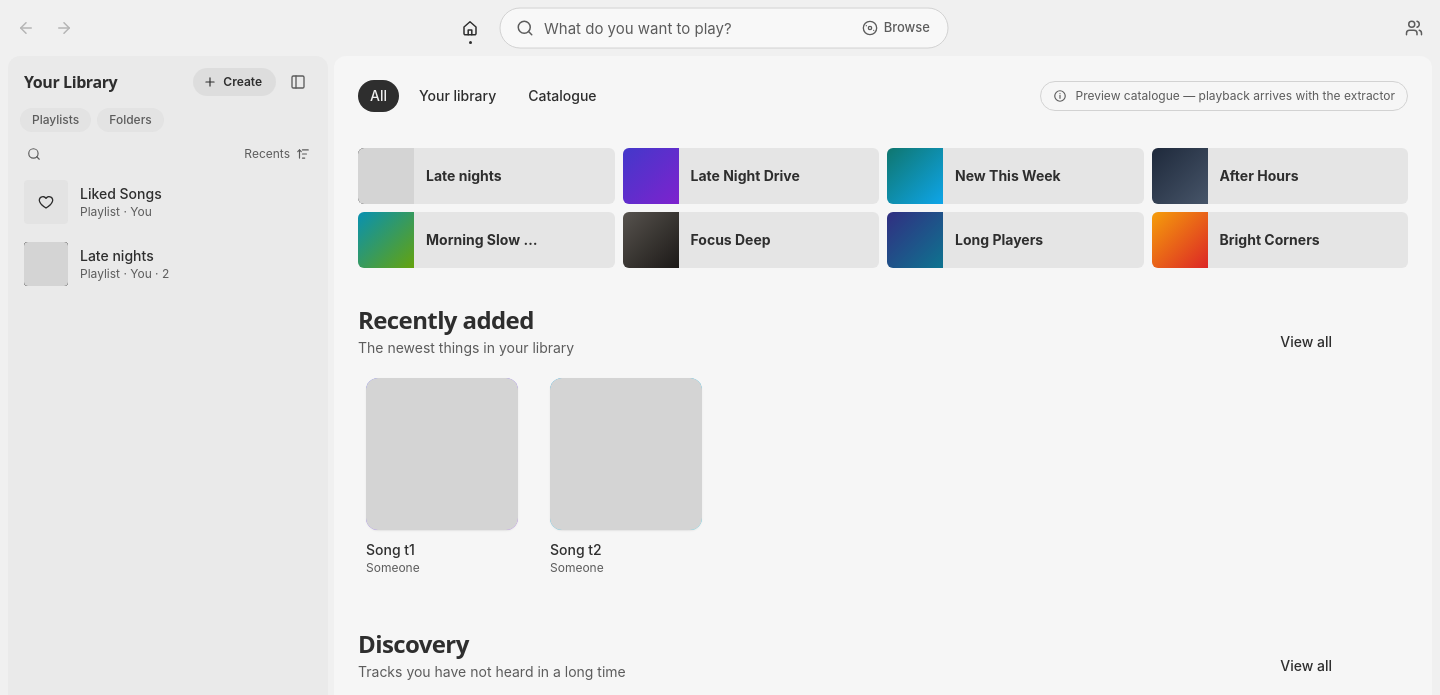
Test: the playlist page › renames from the page, and the panel row follows
Click the 2nd text "Late nights". click: point(117, 256)
box: x1=80 y1=247 x2=154 y2=264
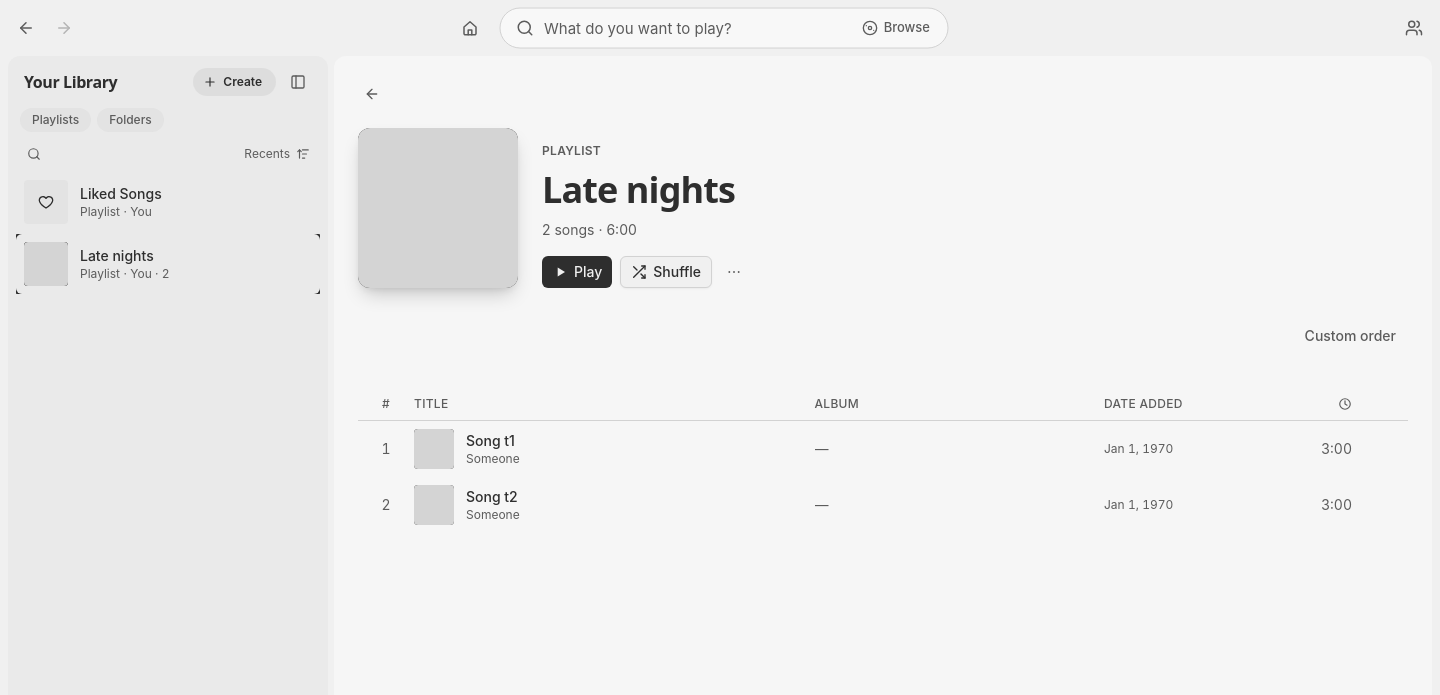
Expected: the heading "Late nights" is shown, x1=542 y1=165 x2=735 y2=214
Click the button named "More options for Late nights". click: point(734, 272)
box: x1=720 y1=258 x2=748 y2=286
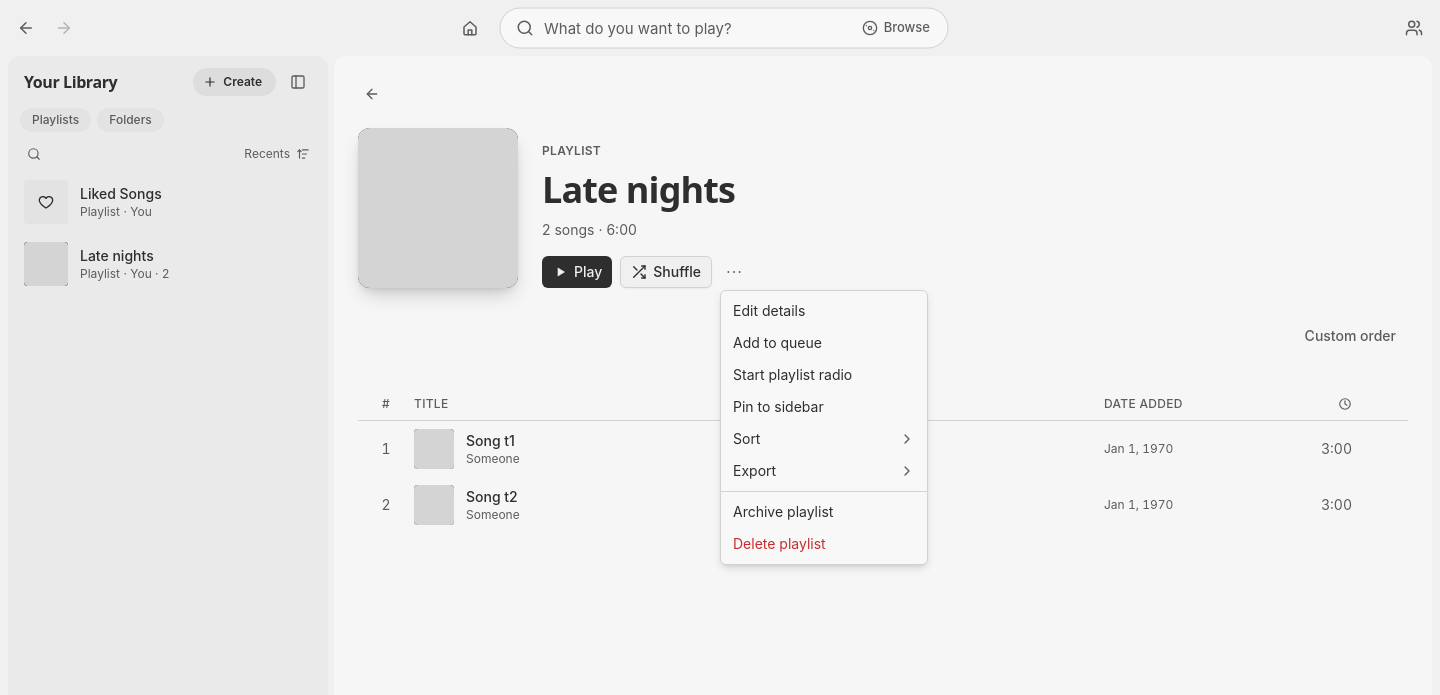
Click the menu item "Edit details". click: point(769, 310)
box: x1=733 y1=302 x2=805 y2=319
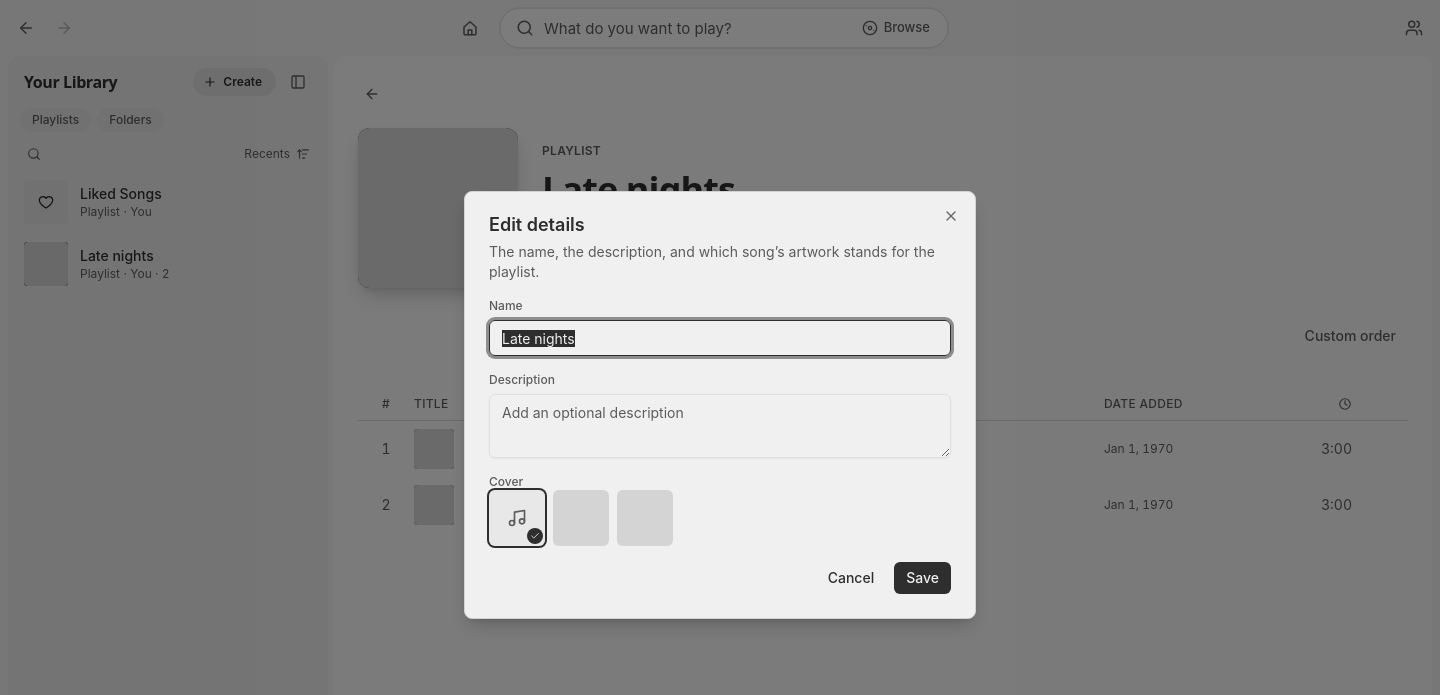
Replace the text in the field labelled "Name" with "Early mornings". click: point(720, 338)
box: x1=489 y1=320 x2=951 y2=356
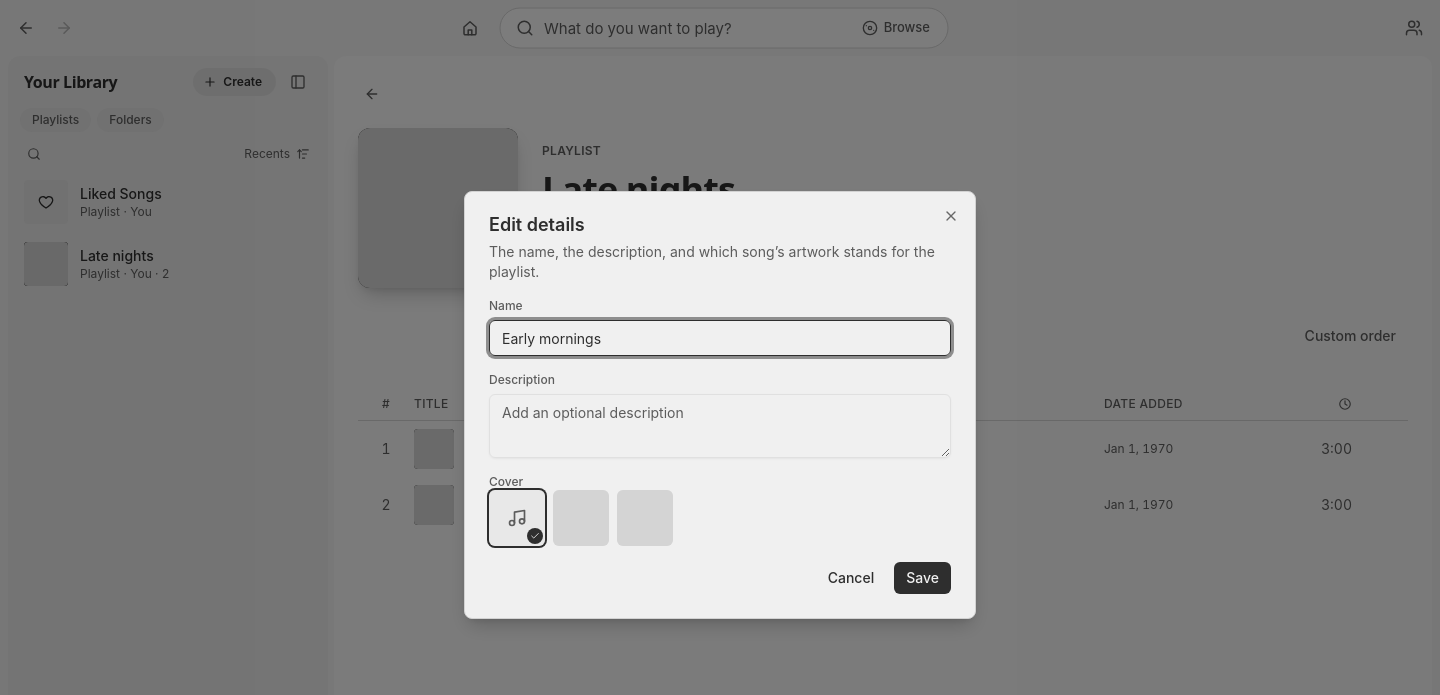
Click the button "Save". click: point(923, 578)
box: x1=894 y1=562 x2=951 y2=594
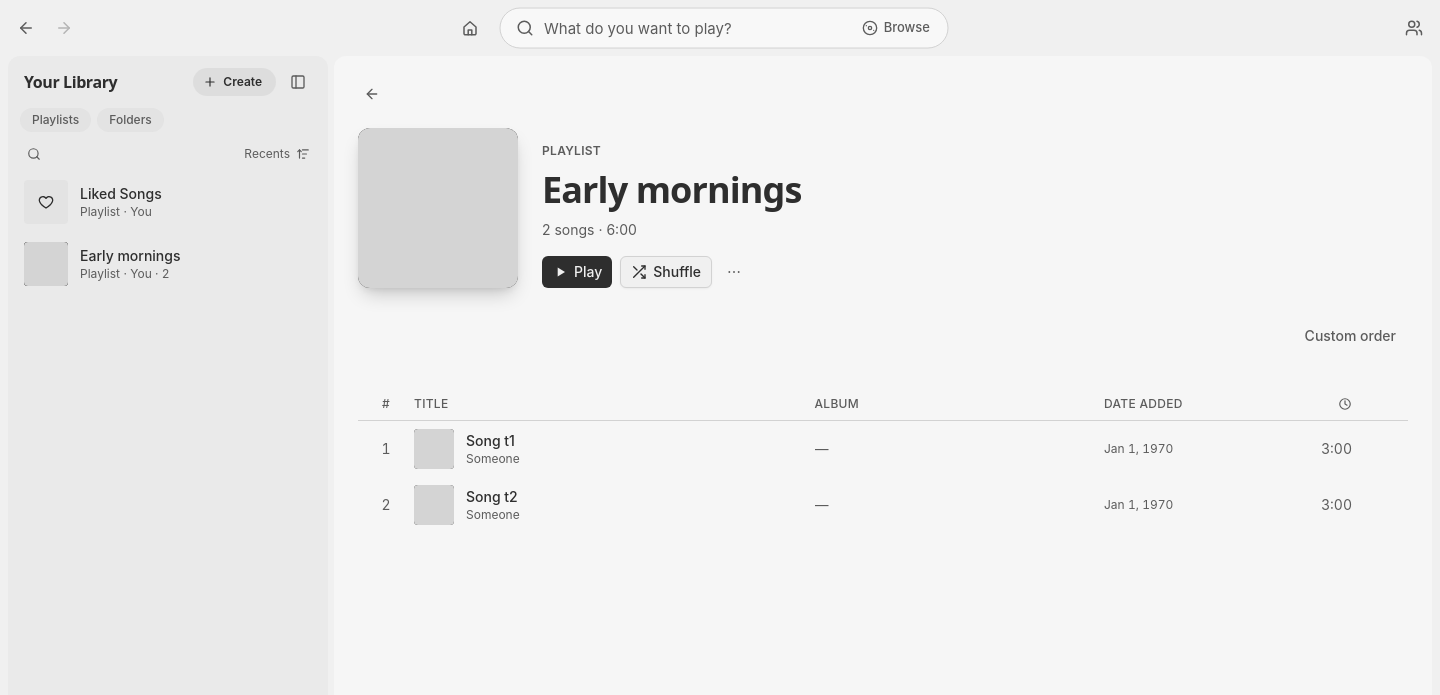
Now the heading "Early mornings" is shown, box x1=542 y1=165 x2=801 y2=214
